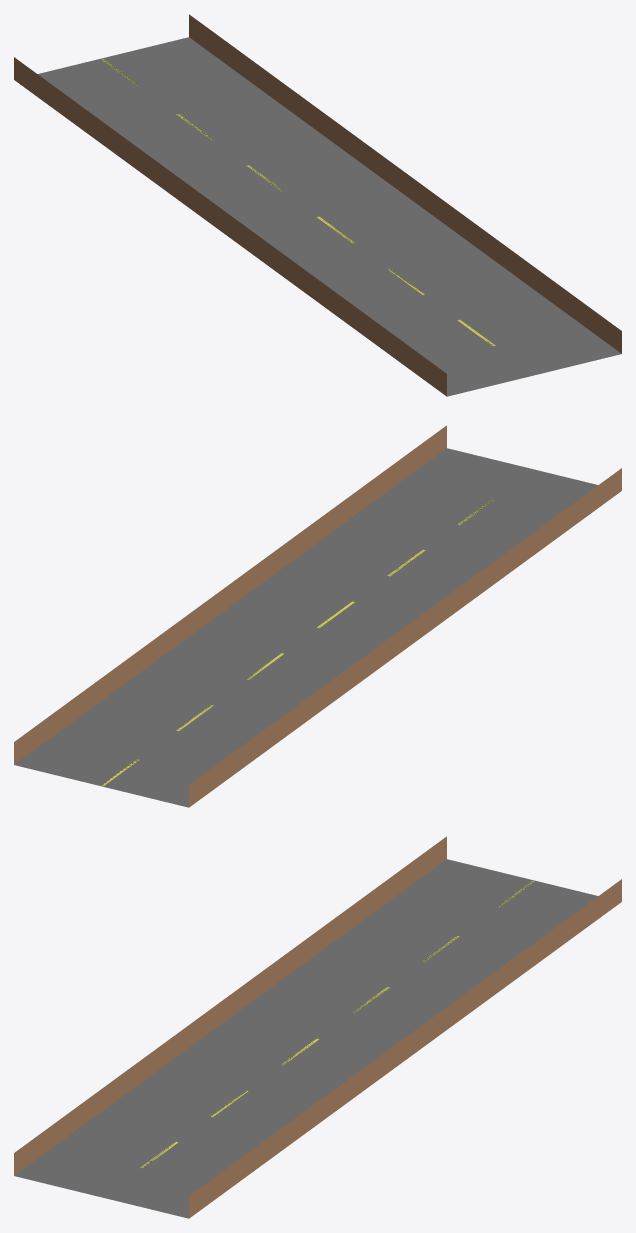
File: elsp.obj
3 renders of one model, top to bottom at view 1: azimuth 30°, elevation 25°; view 2: azimuth 150°, elevation 25°; view 3: azimuth 330°, elevation 25°, orthographic.
Bounding box in the file's own units: 240 × 30 × 1028.
